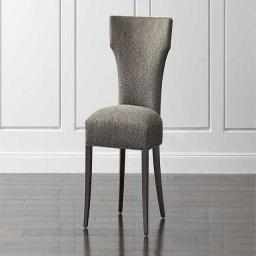Chair: (85, 17, 171, 230)
